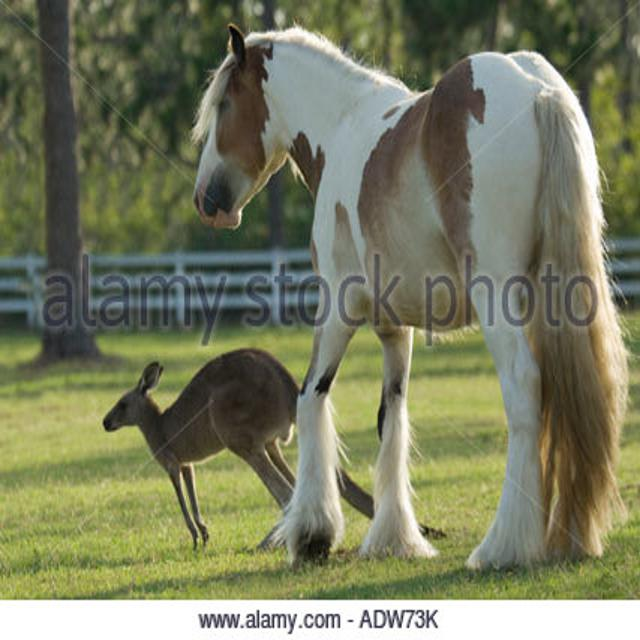kangaroo: (97, 343, 300, 524)
